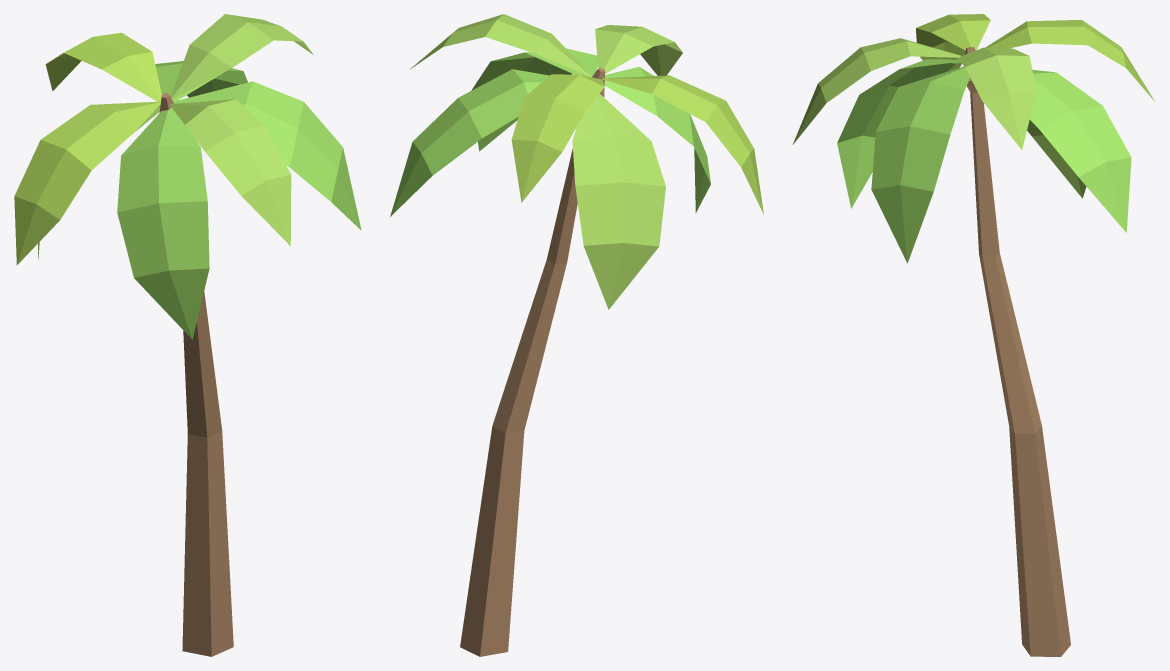
Rendered from Palm_Tree_m_BT_06.fbx.
The picture shows the model from 3 angles, left to right: view 1: azimuth 30°, elevation 25°; view 2: azimuth 150°, elevation 25°; view 3: azimuth 270°, elevation 25°; orthographic projection. The views are drawn at different scales.
Parts seen in each view (by area): view 1: Palm_Tree_m_BT_06; view 2: Palm_Tree_m_BT_06; view 3: Palm_Tree_m_BT_06.
Boxes of the visible parts, x1,y1,x2,y2 form: Palm_Tree_m_BT_06: (14, 14, 361, 656); Palm_Tree_m_BT_06: (390, 14, 763, 656); Palm_Tree_m_BT_06: (792, 14, 1154, 656).
Size of the model in its own units: 290 by 526 by 289.
